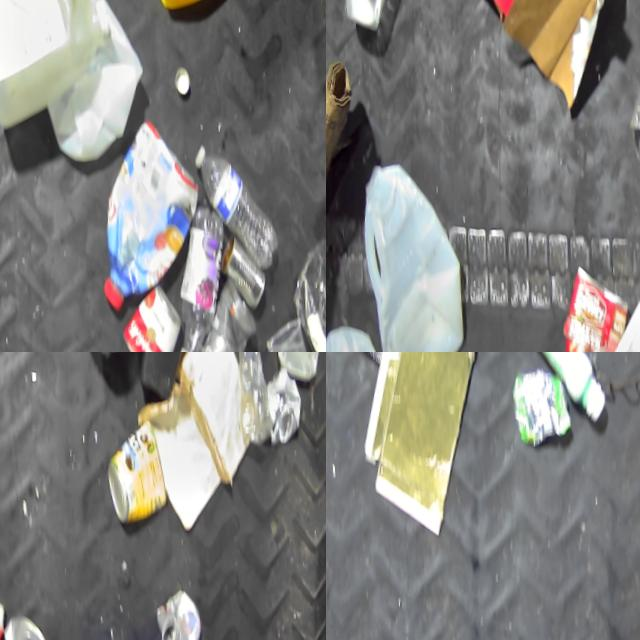can: (544, 258, 623, 352), (95, 415, 171, 511), (504, 360, 574, 450), (114, 280, 182, 352), (0, 608, 42, 640)
milk_jug: (343, 149, 469, 352)
plastic_bottle: (187, 144, 274, 255), (164, 211, 226, 352), (184, 284, 260, 352), (338, 0, 406, 33)
